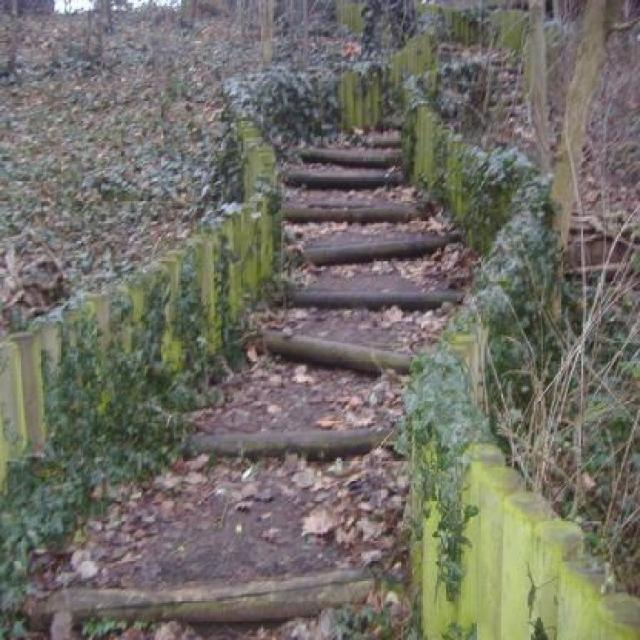stair: (20, 114, 477, 640)
